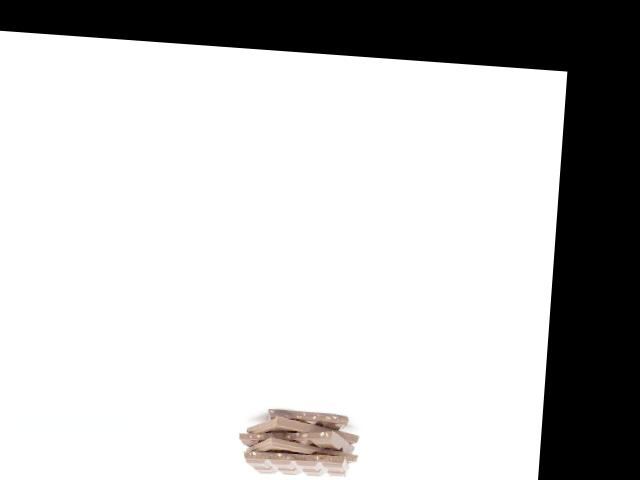chocolate: (246, 401, 358, 453)
